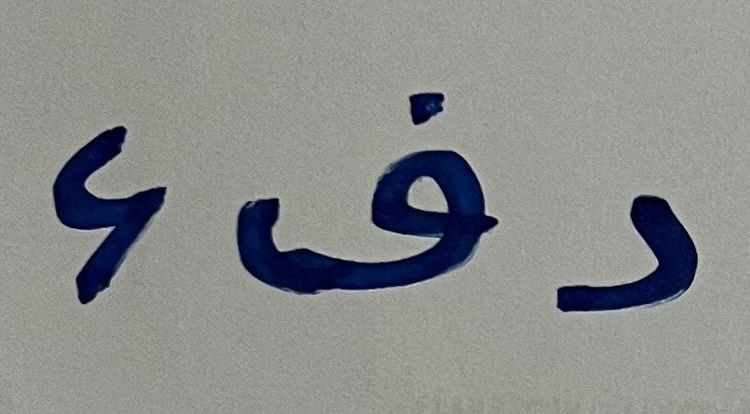qaf: (525, 117, 715, 349)
sheen: (209, 25, 518, 337)
zain: (35, 63, 203, 354)
